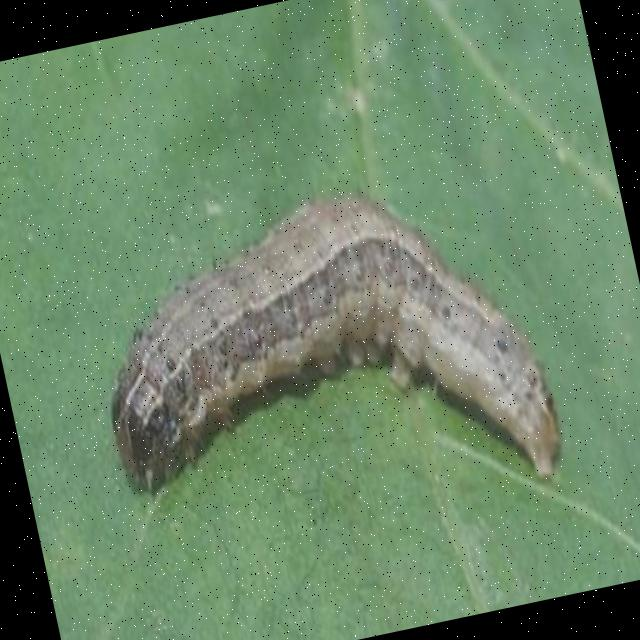worm: (72, 155, 573, 569)
